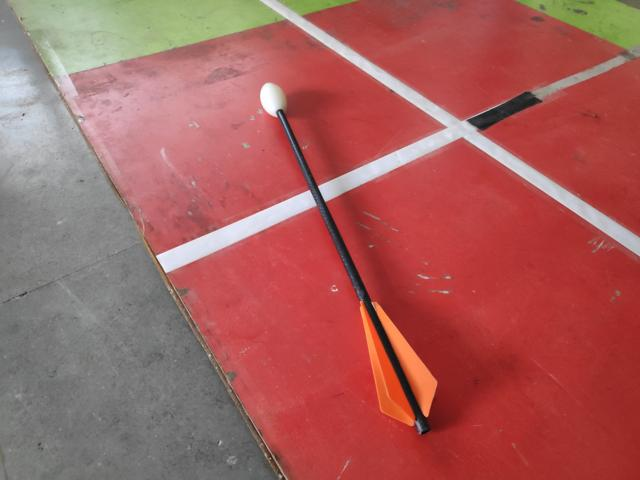Head: (258, 79, 292, 119)
Tail: (358, 294, 444, 435)
